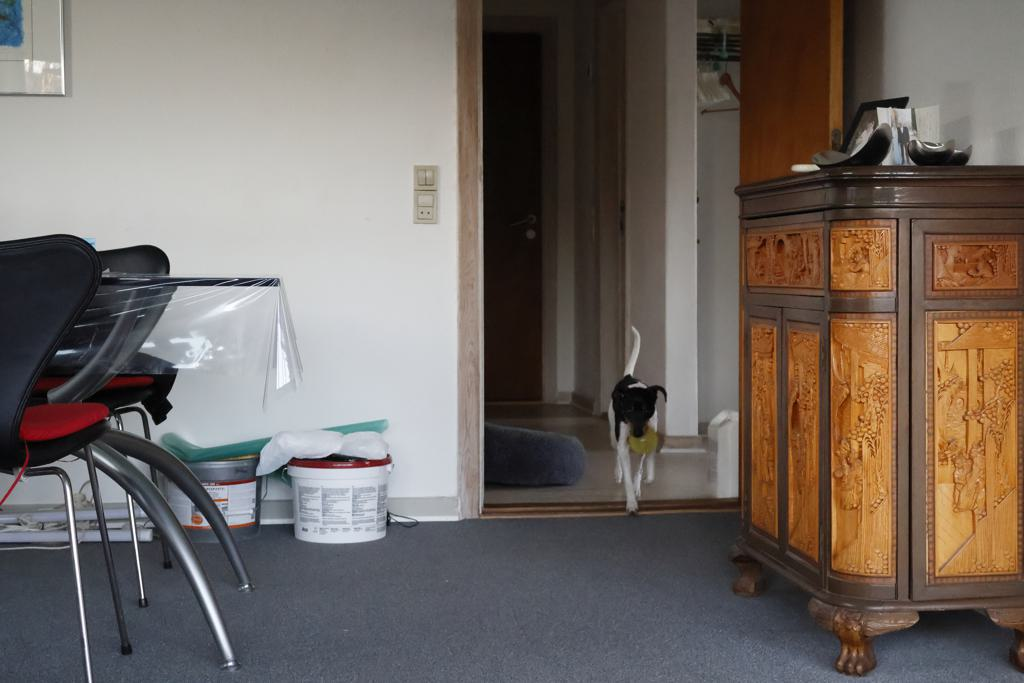Dog: (593, 321, 679, 521)
